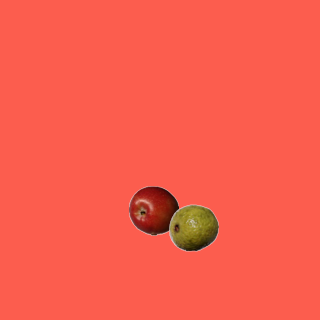Apple Braeburn: (128, 185, 178, 235)
Guava: (168, 202, 218, 252)
